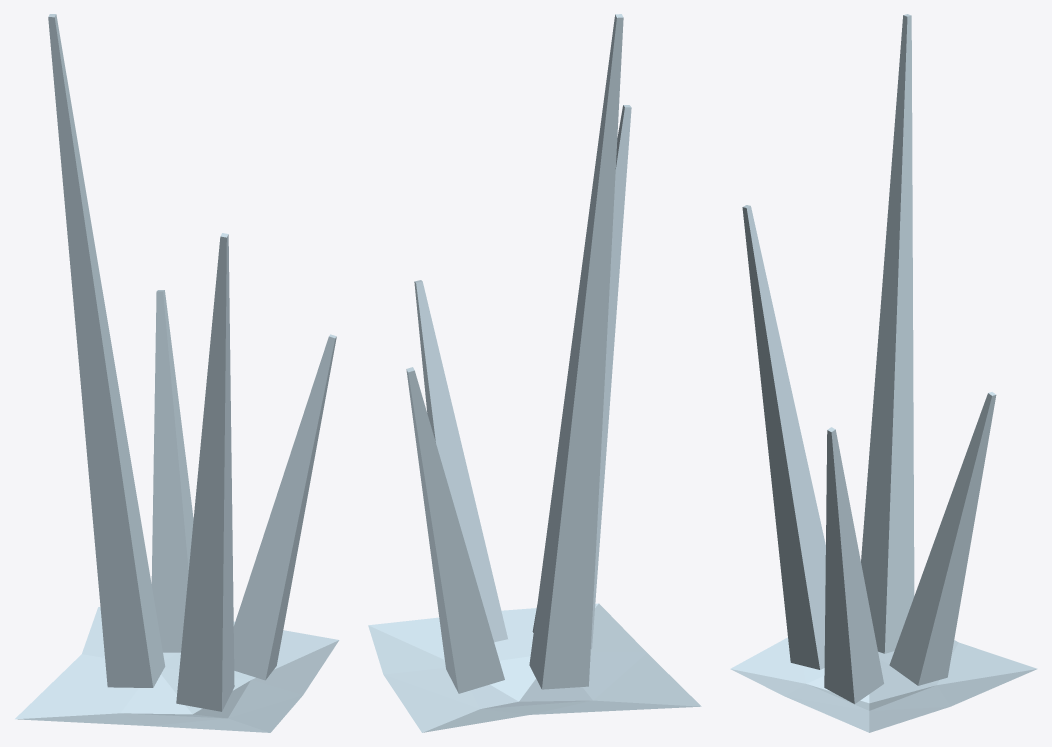
Rendered from ice_shard_v19.glb.
3 renders of one model, left to right at view 1: azimuth 30°, elevation 25°; view 2: azimuth 150°, elevation 25°; view 3: azimuth 270°, elevation 25°, orthographic. The views are drawn at different scales.
Parts seen in each view (by area): view 1: lod0; view 2: lod0; view 3: lod0.
Boxes of the visible parts, x1,y1,x2,y2 form: lod0: (15, 14, 339, 732); lod0: (368, 14, 701, 732); lod0: (730, 14, 1037, 732).
Size of what is drawn, in the model's own units: 0.7825 by 1.64 by 0.7187.
